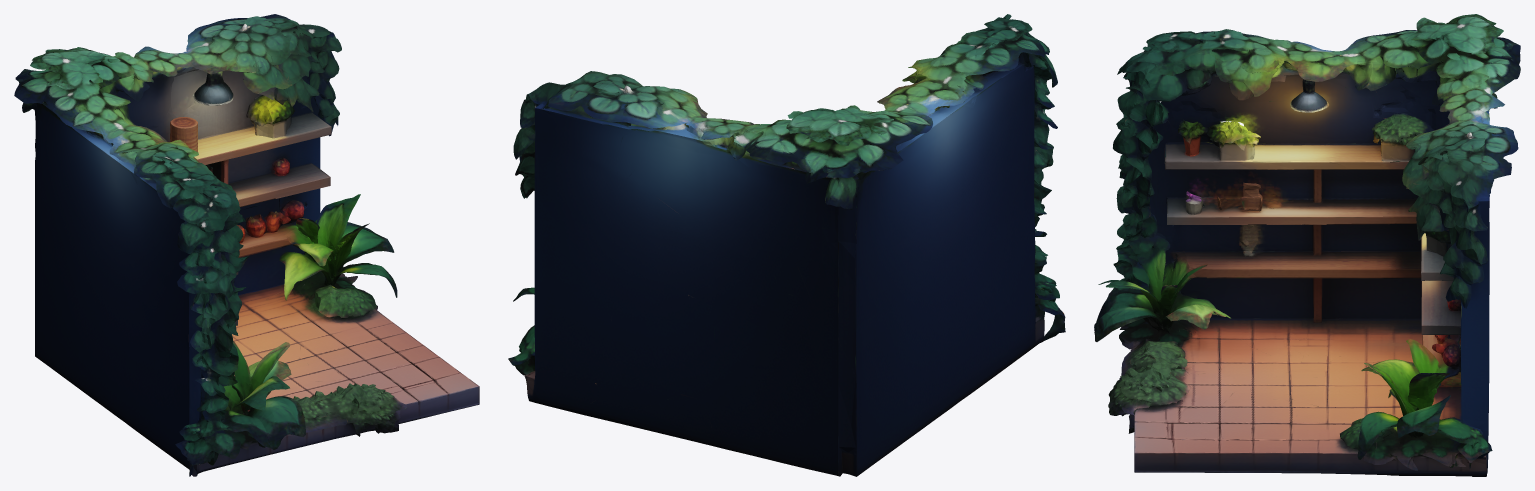
The model's file is sample2.glb.
3 views of the same model, side by side, from view 1: azimuth 30°, elevation 25°; view 2: azimuth 150°, elevation 25°; view 3: azimuth 270°, elevation 25° (orthographic). The views are drawn at different scales.
Parts seen in each view (by area): view 1: world; view 2: world; view 3: world.
Boxes of the visible parts, x1,y1,x2,y2 form: world: (14, 14, 479, 476); world: (508, 14, 1065, 476); world: (1094, 14, 1520, 476).
Size of the model in its own units: 0.9973 by 0.8281 by 1.
Materials: 1 (1 with a texture image).
